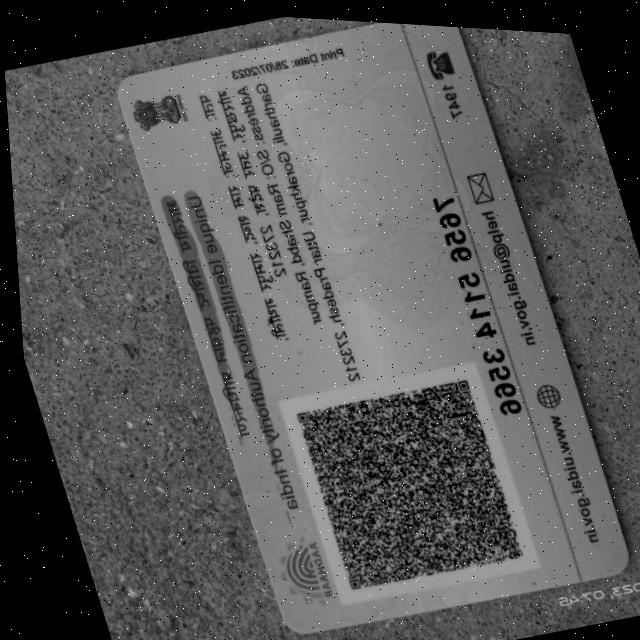card: (119, 23, 627, 633)
